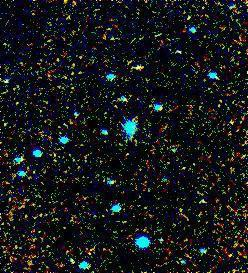star: (127, 51, 157, 81)
